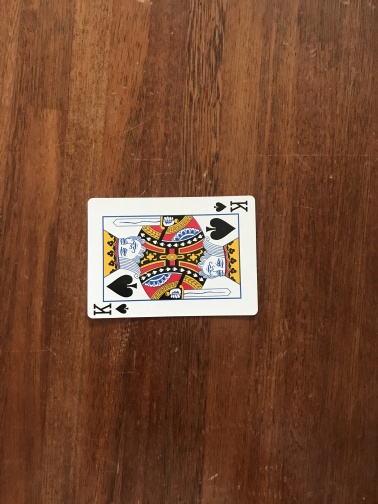king: (85, 195, 258, 322)
